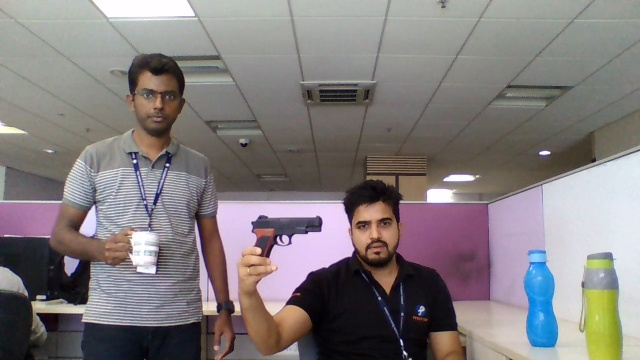gun: (249, 211, 324, 248)
